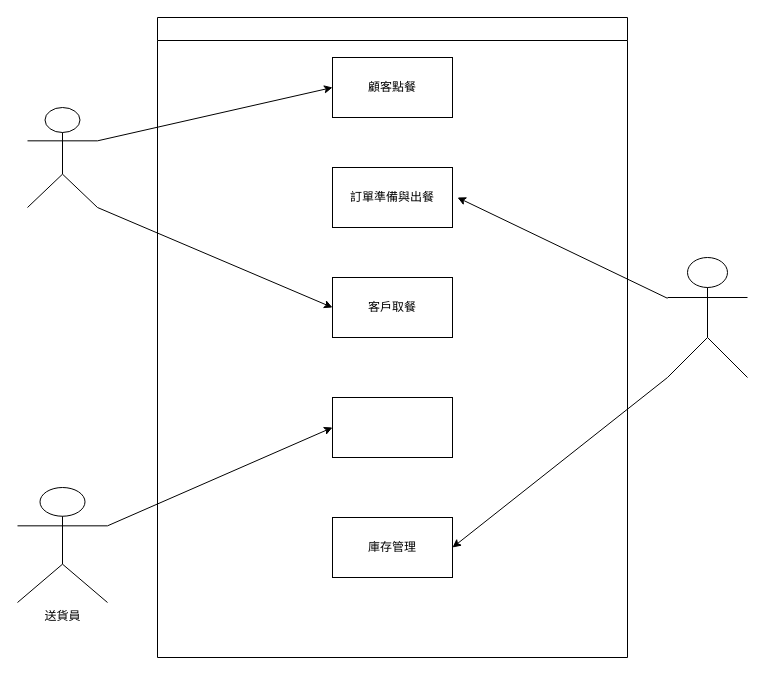
Some shapes in this 765 by 675 pixel diagram are drawn without their labels. Here are the shapes that lost their labels. From the top down, the centre of each, then its label:
At point (62, 157): "顧客".
At point (707, 317): "員工".
At point (392, 427): "配送訂單處理".
